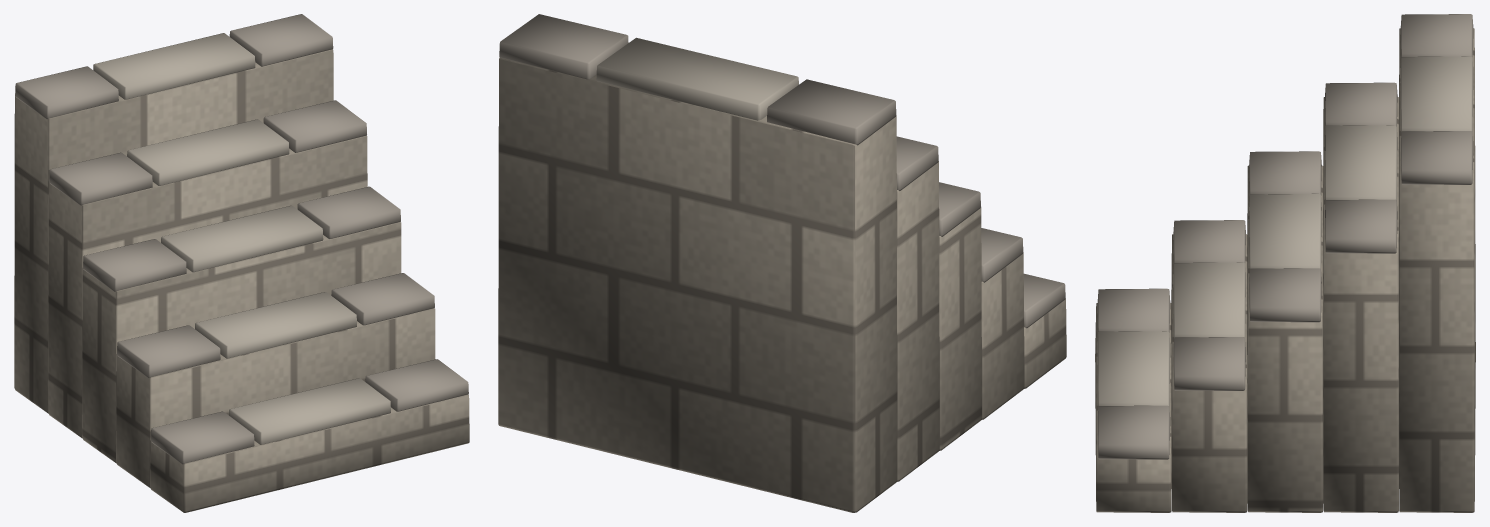
The model's file is 30_stairs.glb.
3 renders of one model, left to right at view 1: azimuth 30°, elevation 25°; view 2: azimuth 150°, elevation 25°; view 3: azimuth 270°, elevation 25°, orthographic. The views are drawn at different scales.
Parts seen in each view (by area): view 1: StepCore_4, StepCore_3, StepCore_2, StepCore_1, StepCore_0, StepTread_2_1, StepTread_3_1, StepTread_4_1, StepTread_0_1, StepTread_1_1, StepTread_0_0, StepTread_2_0 (+8 smaller); view 2: StepCore_4, StepCore_3, StepTread_4_1, StepCore_2, StepCore_1, StepTread_4_0, StepTread_4_2, StepCore_0, StepTread_3_0, StepTread_1_0, StepTread_2_0, StepTread_0_0; view 3: StepCore_4, StepCore_3, StepCore_2, StepCore_1, StepTread_2_1, StepTread_1_1, StepTread_4_1, StepTread_3_1, StepTread_0_1, StepCore_0, StepTread_3_2, StepTread_2_2 (+8 smaller).
Boxes of the visible parts, x1=… form: StepCore_4: x1=14, y1=49, x2=333, y2=413; StepCore_3: x1=48, y1=135, x2=367, y2=437; StepCore_2: x1=82, y1=222, x2=401, y2=462; StepCore_1: x1=116, y1=308, x2=435, y2=487; StepCore_0: x1=150, y1=394, x2=469, y2=512; StepTread_2_1: x1=161, y1=205, x2=323, y2=272; StepTread_3_1: x1=127, y1=119, x2=289, y2=185; StepTread_4_1: x1=93, y1=33, x2=255, y2=99; StepTread_0_1: x1=229, y1=378, x2=390, y2=444; StepTread_1_1: x1=195, y1=292, x2=356, y2=358; StepTread_0_0: x1=150, y1=411, x2=254, y2=464; StepTread_2_0: x1=83, y1=239, x2=186, y2=291; StepCore_4: x1=498, y1=57, x2=897, y2=512; StepCore_3: x1=897, y1=161, x2=939, y2=481; StepTread_4_1: x1=596, y1=37, x2=798, y2=120; StepCore_2: x1=939, y1=207, x2=981, y2=450; StepCore_1: x1=981, y1=252, x2=1024, y2=419; StepTread_4_0: x1=767, y1=79, x2=896, y2=145; StepTread_4_2: x1=499, y1=14, x2=628, y2=79; StepCore_0: x1=1024, y1=298, x2=1066, y2=388; StepTread_3_0: x1=896, y1=136, x2=938, y2=190; StepTread_1_0: x1=981, y1=228, x2=1023, y2=282; StepTread_2_0: x1=939, y1=182, x2=980, y2=236; StepTread_0_0: x1=1023, y1=273, x2=1065, y2=328; StepCore_4: x1=1399, y1=28, x2=1475, y2=512; StepCore_3: x1=1323, y1=97, x2=1398, y2=512; StepCore_2: x1=1247, y1=165, x2=1323, y2=512; StepCore_1: x1=1171, y1=234, x2=1247, y2=512; StepTread_2_1: x1=1249, y1=193, x2=1321, y2=268; StepTread_1_1: x1=1173, y1=262, x2=1245, y2=338; StepTread_4_1: x1=1400, y1=56, x2=1473, y2=132; StepTread_3_1: x1=1325, y1=125, x2=1397, y2=201; StepTread_0_1: x1=1097, y1=331, x2=1170, y2=406; StepCore_0: x1=1095, y1=303, x2=1171, y2=512; StepTread_3_2: x1=1325, y1=199, x2=1397, y2=253; StepTread_2_2: x1=1249, y1=268, x2=1321, y2=322.
Bounding box in the file's own units: 0.98 × 1 × 1.01.
3 materials, 1 textured.
